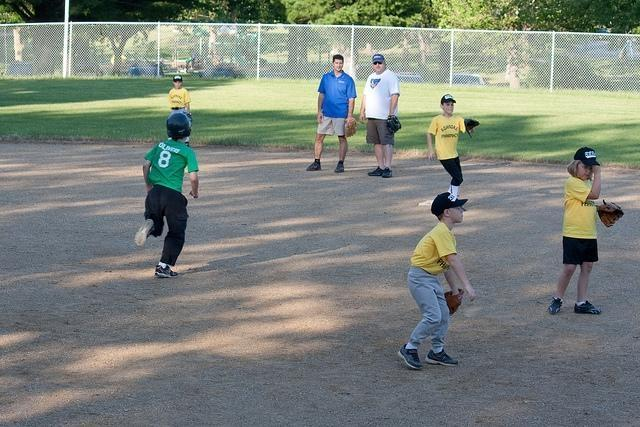car: (124, 66, 164, 77), (452, 73, 486, 84), (395, 72, 425, 82)
